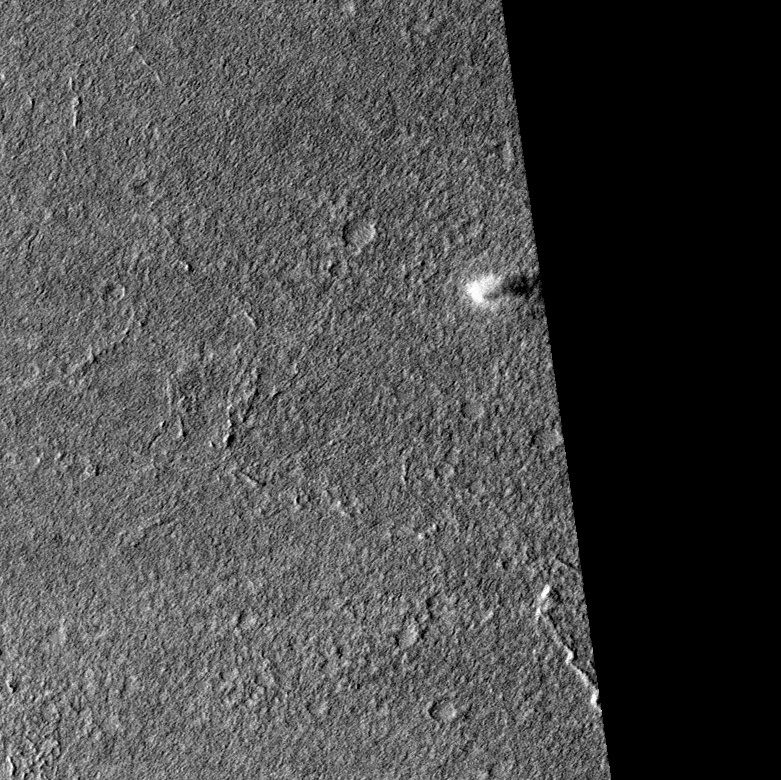dust_devil: (465, 269, 541, 308)
